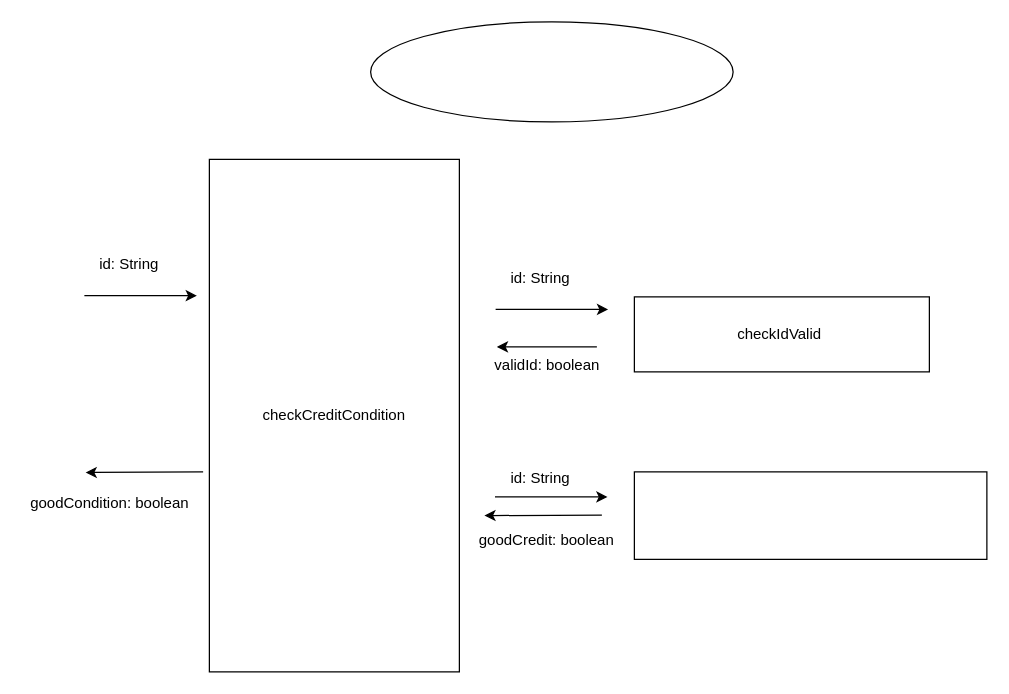
Some shapes in this 1009 by 694 pixel diagram are drawn without their labels. The centre of each missing label's shape, as x and y in pixels:
Check person's credit situation: pixel 551 71
checkGoodCredit: pixel 810 515
